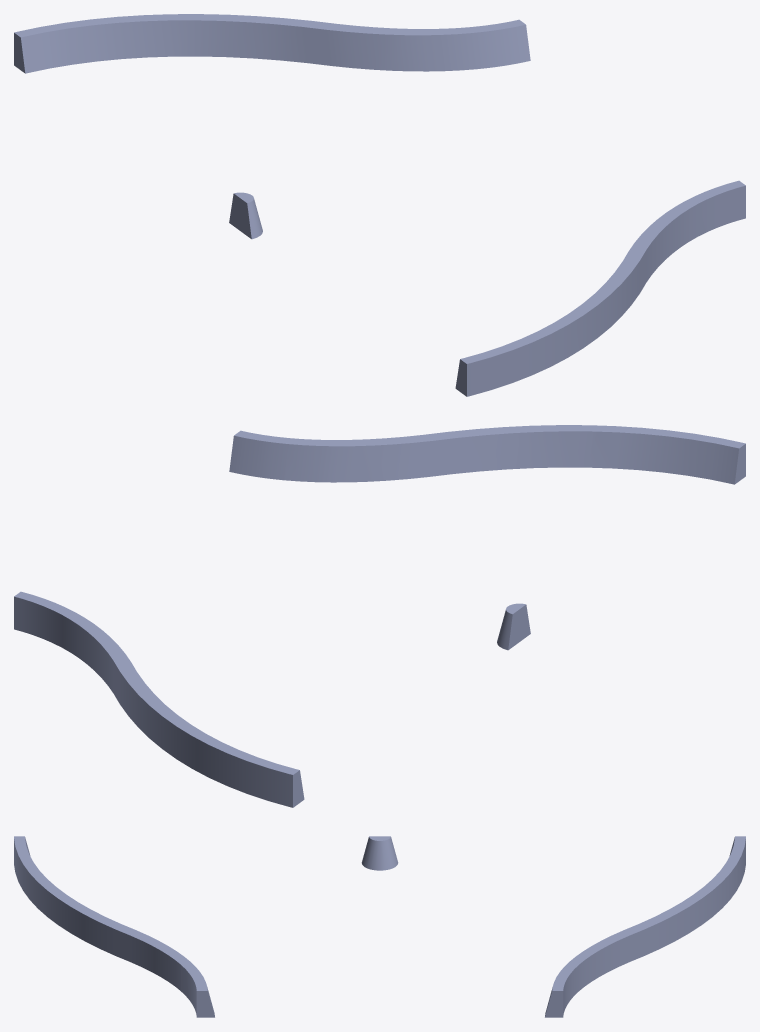
Rendered from road-split-barrier.glb.
The picture shows the model from 3 angles, top to bottom: view 1: azimuth 30°, elevation 25°; view 2: azimuth 150°, elevation 25°; view 3: azimuth 270°, elevation 25°; orthographic projection. The views are drawn at different scales.
Parts seen in each view (by area): view 1: road-split-barrier; view 2: road-split-barrier; view 3: road-split-barrier.
Part boxes in pixels (box(x1,y1,x2,y2)): road-split-barrier: box(14, 14, 745, 396); road-split-barrier: box(14, 425, 745, 807); road-split-barrier: box(14, 836, 745, 1017).
Bounding box in the file's own units: 1 × 0.0801 × 2.
Materials: 1 (1 with a texture image).
